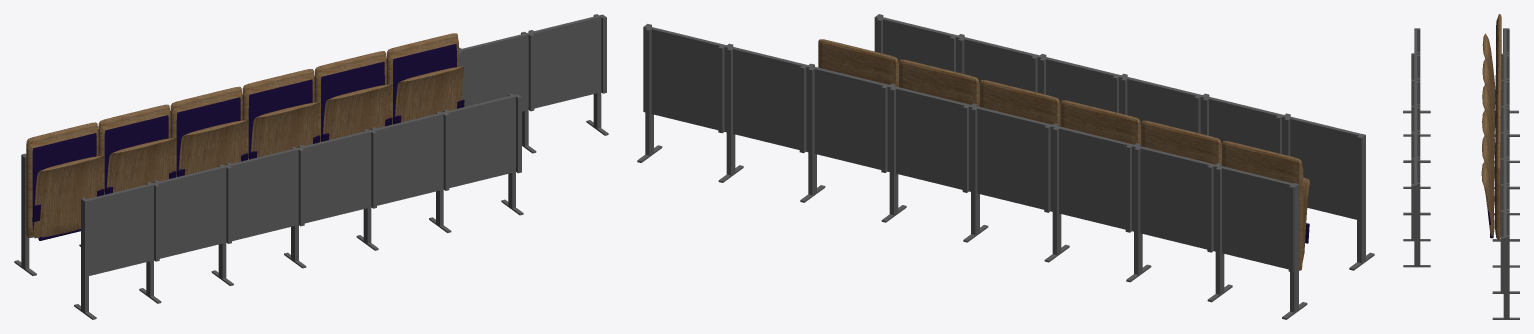
Rendered from audi_B_first_row.fbx.
3 renders of one model, left to right at view 1: azimuth 30°, elevation 25°; view 2: azimuth 150°, elevation 25°; view 3: azimuth 270°, elevation 25°, orthographic. The views are drawn at different scales.
Parts seen in each view (by area): view 1: Cube.003, Cube, Cube.004, end; view 2: Cube.004, Cube.003, Cube, end; view 3: Cube, Cube.004, Cube.003, end.
Part boxes in pixels (bbox=[...]): Cube.003: bbox=[85, 93, 523, 303]; Cube: bbox=[26, 33, 464, 240]; Cube.004: bbox=[22, 14, 608, 246]; end: bbox=[14, 154, 96, 319]; Cube.004: bbox=[637, 24, 1293, 302]; Cube.003: bbox=[874, 14, 1360, 219]; Cube: bbox=[818, 39, 1309, 270]; end: bbox=[1282, 134, 1374, 319]; Cube: bbox=[1481, 14, 1501, 239]; Cube.004: bbox=[1492, 28, 1519, 319]; Cube.003: bbox=[1403, 30, 1430, 267]; end: bbox=[1403, 28, 1518, 113].
Bounding box in the file's own units: 1612 × 359 × 379.
